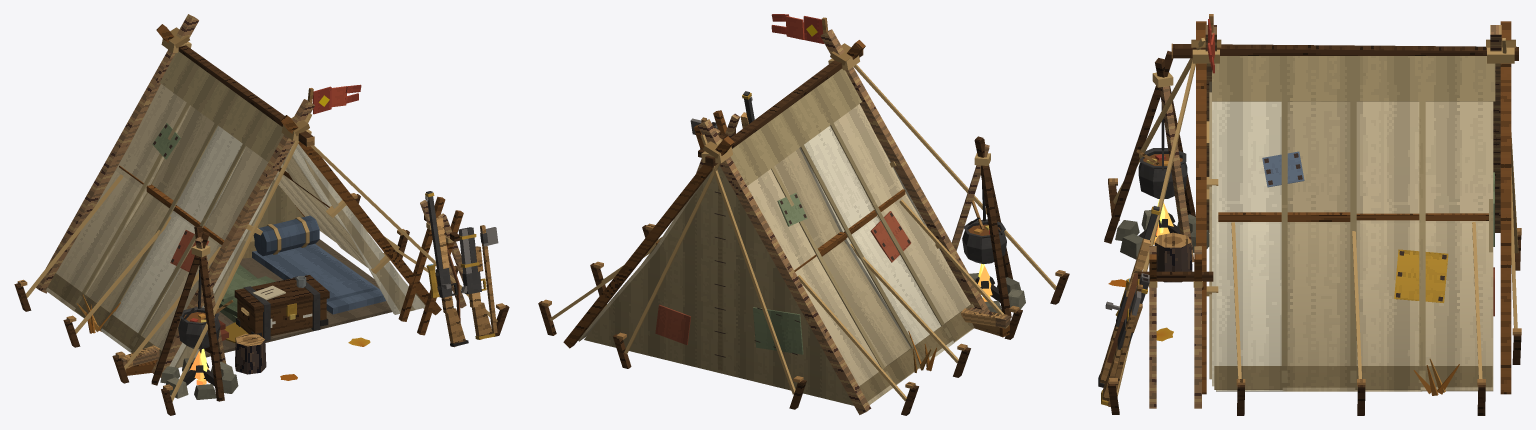
Rendered from op_tent.glb.
3 views of the same model, side by side, from view 1: azimuth 30°, elevation 25°; view 2: azimuth 150°, elevation 25°; view 3: azimuth 270°, elevation 25° (orthographic). The views are drawn at different scales.
Visible parts, largest first — view 1: op_tent, deco_ropes, sway_flag; view 2: op_tent, deco_ropes, sway_flag; view 3: op_tent, deco_ropes.
Boxes of the visible parts, <box> form: op_tent: <box>36,14,498,401</box>; deco_ropes: <box>14,41,509,415</box>; sway_flag: <box>313,84,361,114</box>; op_tent: <box>563,17,1025,414</box>; deco_ropes: <box>538,64,1069,415</box>; sway_flag: <box>771,14,824,43</box>; op_tent: <box>1098,14,1518,408</box>; deco_ropes: <box>1108,37,1521,415</box>.
Size of the model in its own units: 3.96 by 2.74 by 3.37.
Materials: 58 (35 with a texture image).
